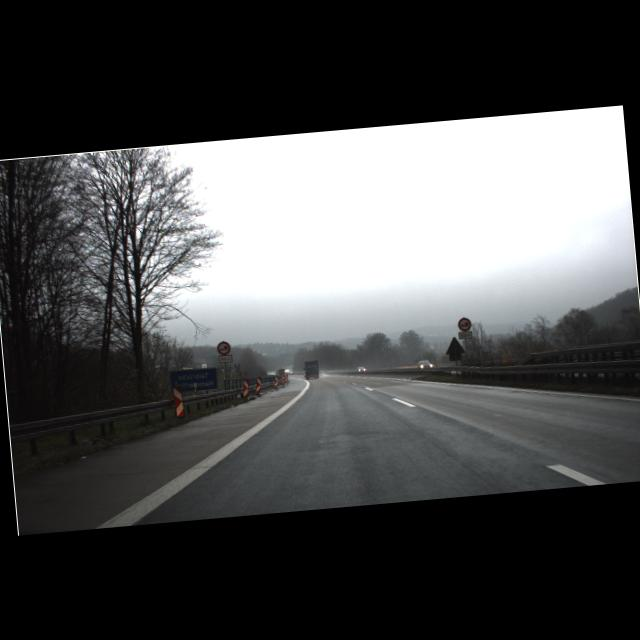prohibitory: (216, 341, 232, 356), (458, 317, 472, 332)
